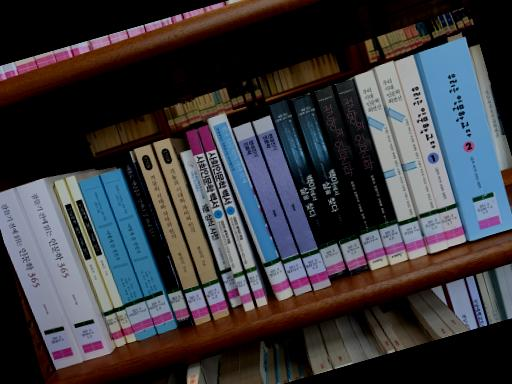book-spine: (419, 37, 512, 242), (16, 178, 110, 361), (207, 113, 294, 301), (0, 188, 82, 369), (290, 92, 370, 276), (270, 99, 349, 281), (375, 61, 448, 254), (153, 138, 230, 320), (134, 144, 211, 325), (395, 55, 467, 248), (355, 70, 428, 260), (233, 122, 312, 296), (315, 86, 389, 271), (253, 115, 331, 290), (336, 79, 408, 265), (117, 151, 192, 329), (99, 168, 178, 335), (78, 176, 157, 341), (197, 125, 268, 308), (186, 129, 256, 312), (53, 178, 127, 348), (65, 175, 137, 343), (180, 150, 242, 308)
